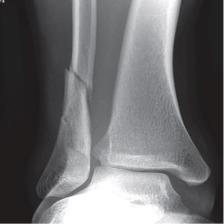spiral-fracture: (34, 0, 220, 224)
